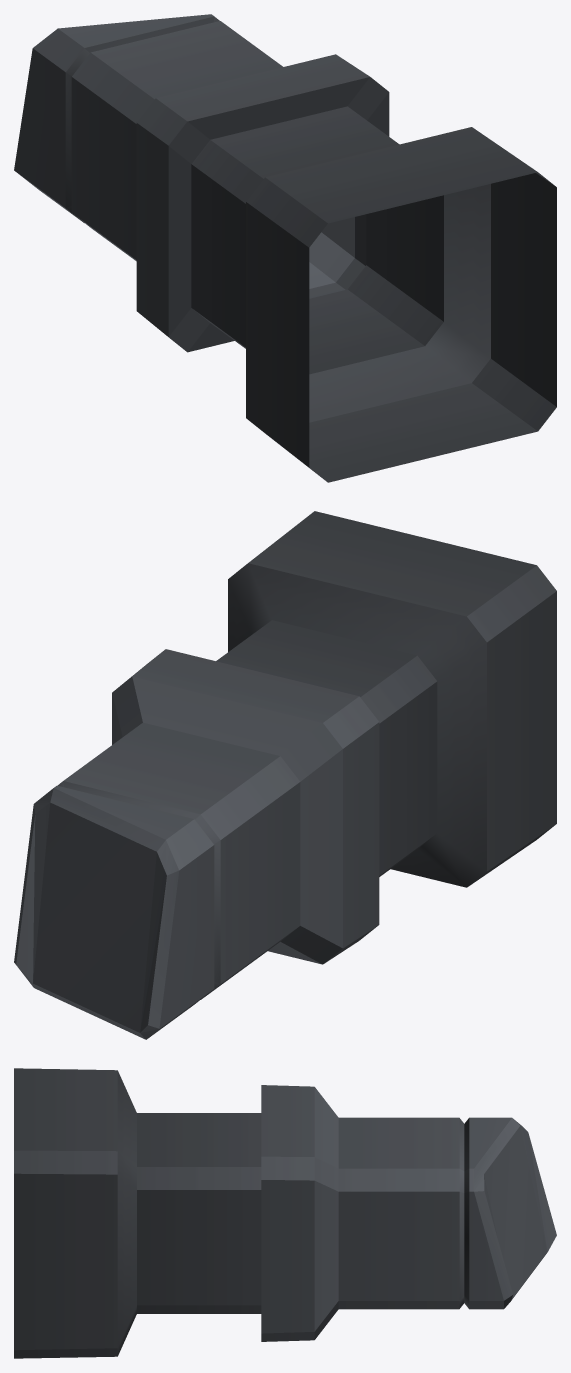
Rendered from Pillar Broken 01.FBX.
The picture shows the model from 3 angles, top to bottom: view 1: azimuth 30°, elevation 25°; view 2: azimuth 150°, elevation 25°; view 3: azimuth 270°, elevation 25°; orthographic projection. The views are drawn at different scales.
Visible parts, largest first — view 1: Pillar Broken 01; view 2: Pillar Broken 01; view 3: Pillar Broken 01.
Boxes of the visible parts, x1,y1,x2,y2 form: Pillar Broken 01: (14, 14, 556, 482); Pillar Broken 01: (14, 511, 556, 1039); Pillar Broken 01: (14, 1068, 556, 1358).
Bounding box in the file's own units: 71.87 × 71.89 × 170.
